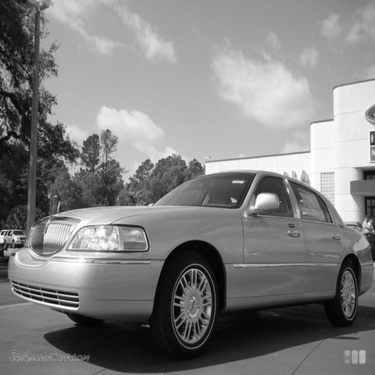car: (8, 162, 372, 356), (335, 217, 373, 259), (5, 225, 29, 248), (1, 233, 11, 263), (1, 225, 7, 243)
